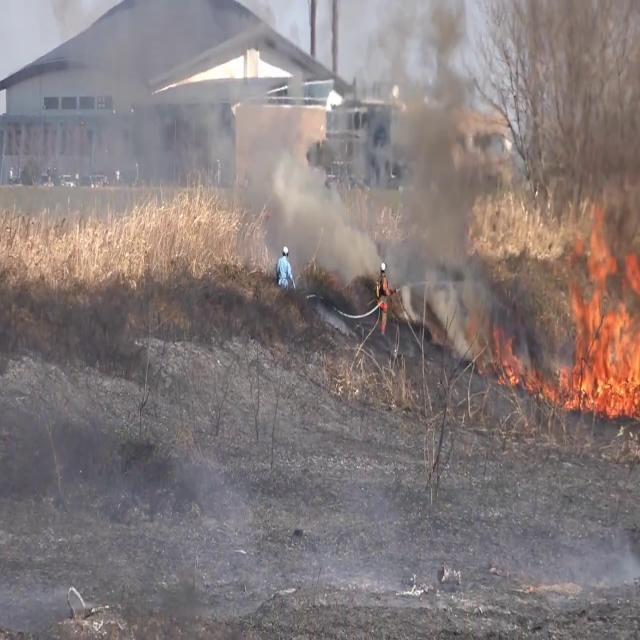Fire: (565, 216, 640, 411)
Smoke: (245, 0, 521, 325)
